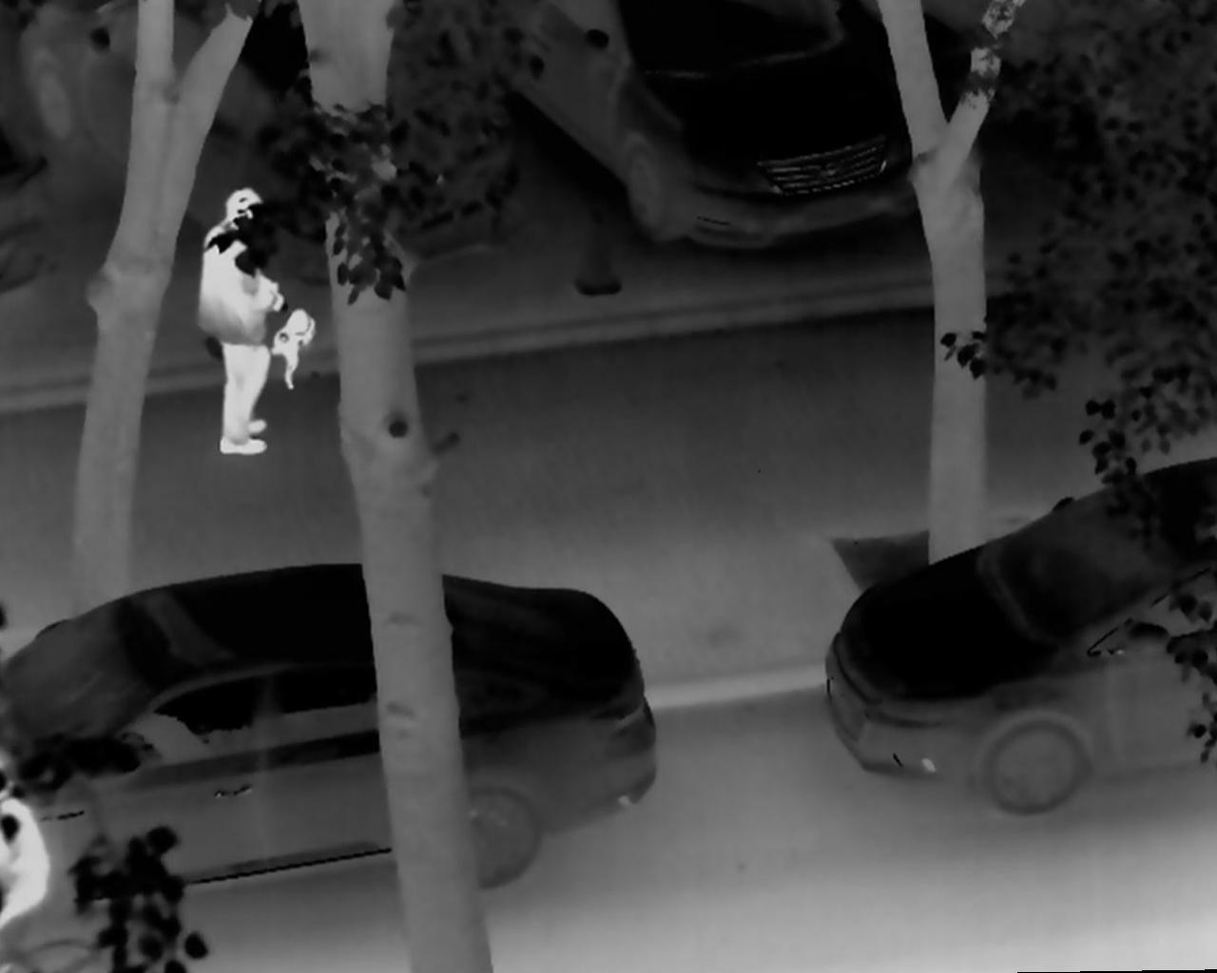person: (187, 184, 283, 462), (2, 753, 55, 945)
